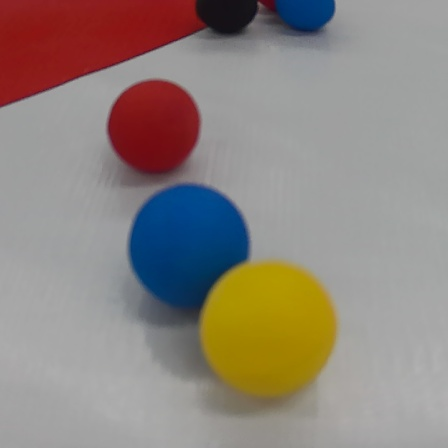black: (196, 1, 255, 34)
blue: (131, 181, 255, 307), (275, 0, 342, 35)
red: (107, 79, 203, 174)
red_base: (0, 0, 229, 110)
yellow: (198, 258, 340, 401)
